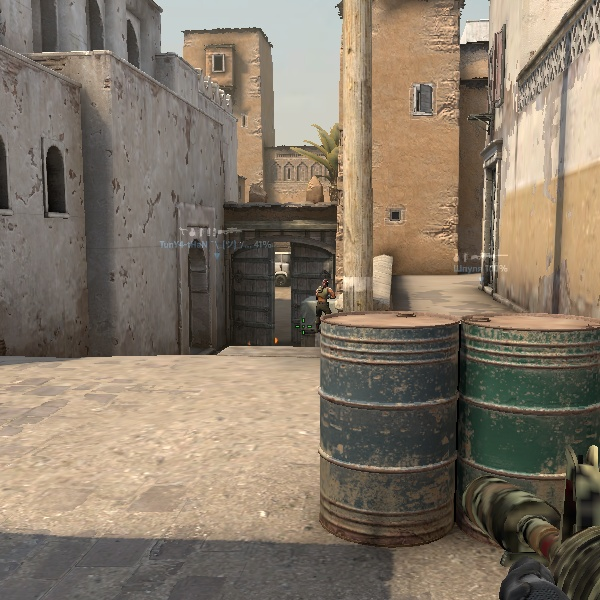t_body: (314, 278, 338, 331)
t_head: (321, 279, 329, 290)
